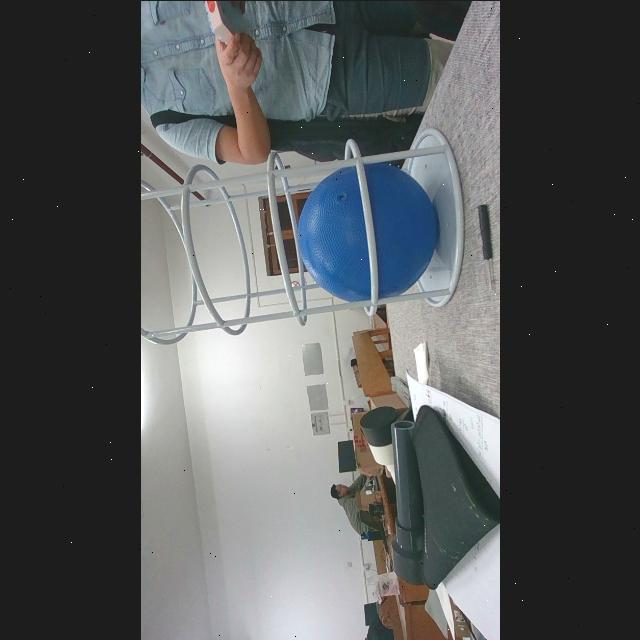B: (300, 158, 438, 302)
S: (140, 128, 464, 346)
